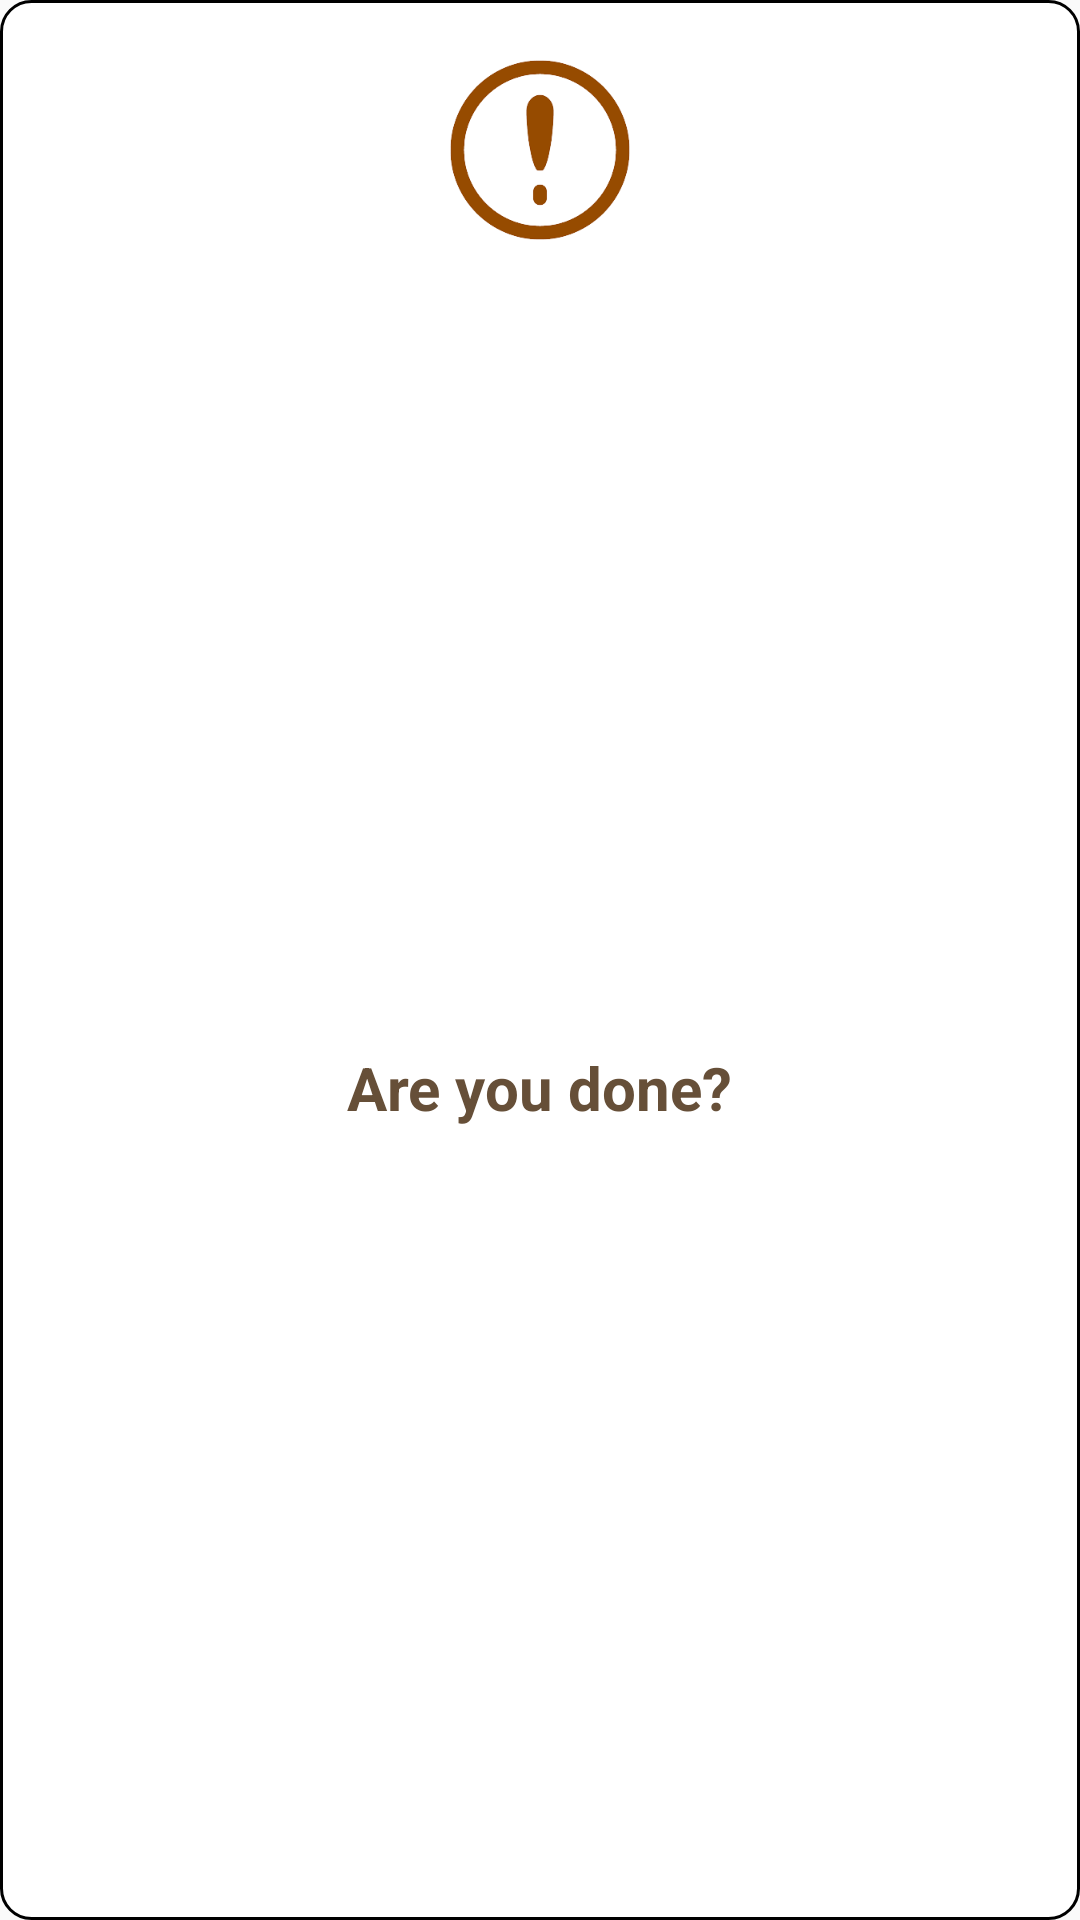

Named icons in this screenshot (1080px×1920px) and their bounding boxes, (x1, y1, x2, y2):
exclamation: (450, 60, 630, 240)
